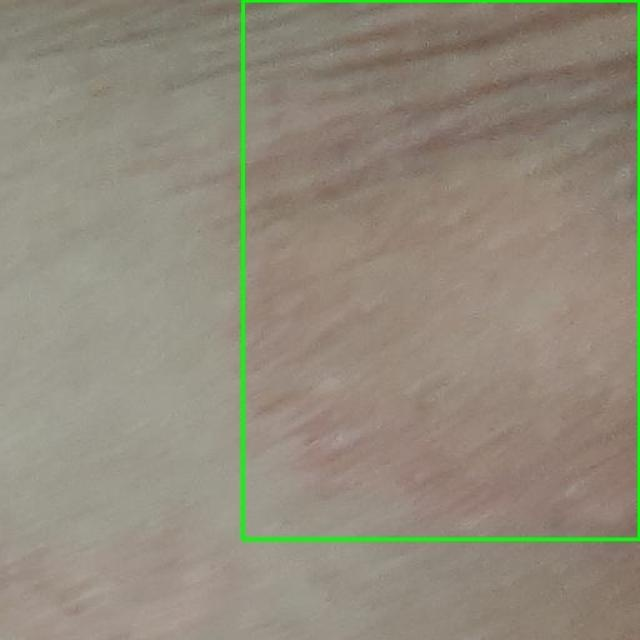Tinea Corporis: (242, 0, 639, 539)
